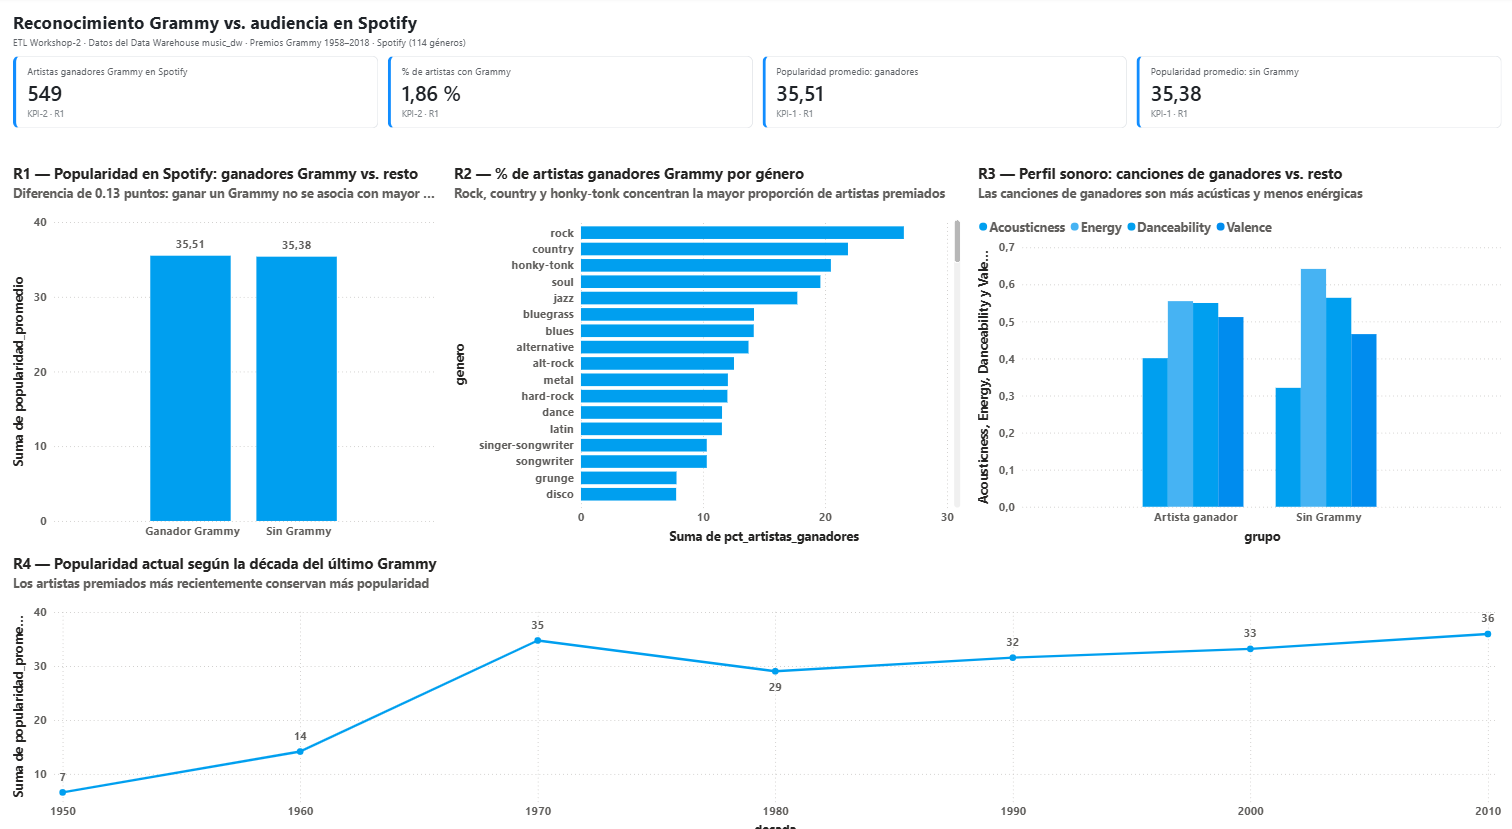

The page's visual inventory and layout, read from the dashboard file:
{"tool":"powerbi","page":{"name":"Página 1","canvas":[1920,1080],"ordinal":0},"visuals":[{"type":"clusteredColumnChart","title":"R1 — Popularidad en Spotify: ganadores Grammy vs. resto","fields":{"Category":["public kpi_r1_popularity_by_winner.grupo"],"Y":["Sum(public kpi_r1_popularity_by_winner.popularidad_promedio)"]},"box":[11.6,210.9,547.3,487.8],"z":0},{"type":"clusteredBarChart","title":"R2 — % de artistas ganadores Grammy por género","fields":{"Category":["public kpi_r2_genre_winners.genero"],"Y":["Sum(public kpi_r2_genre_winners.pct_artistas_ganadores)"]},"box":[570.6,210.9,652.1,487.8],"z":1},{"type":"clusteredColumnChart","title":"R3 — Perfil sonoro: canciones de ganadores vs. resto","fields":{"Category":["public kpi_r3_audio_profile.grupo"],"Y":["Sum(public kpi_r3_audio_profile.acousticness)","Sum(public kpi_r3_audio_profile.energy)","Sum(public kpi_r3_audio_profile.danceability)","Sum(public kpi_r3_audio_profile.valence)"]},"box":[1234.3,210.9,674.1,487.8],"z":2},{"type":"lineChart","title":"R4 — Popularidad actual según la década del último Grammy","fields":{"Category":["public kpi_r4_popularity_by_decade.decada"],"Y":["Sum(public kpi_r4_popularity_by_decade.popularidad_promedio)"]},"box":[11.7,705.2,1896.7,366.2],"z":3},{"type":"htmlContent443BE3AD55E043BF878BED274D3A6855","fields":{"content":["public kpi_r1_popularity_by_winner.KPI Encabezado HTML"]},"box":[11.6,11.6,1896.7,190.2],"z":4}]}

Visuals, with their boxes in screenshot pixels (x1, y1, x2, y2), scaled from the page's 1920x1080 canvas onto the 1512x829 screenshot:
"R1 — Popularidad en Spotify: ganadores Grammy vs. resto" clusteredColumnChart: 9, 162, 440, 536
"R2 — % de artistas ganadores Grammy por género" clusteredBarChart: 449, 162, 963, 536
"R3 — Perfil sonoro: canciones de ganadores vs. resto" clusteredColumnChart: 972, 162, 1503, 536
"R4 — Popularidad actual según la década del último Grammy" lineChart: 9, 541, 1503, 822
htmlContent443BE3AD55E043BF878BED274D3A6855 - public kpi_r1_popularity_by_winner.KPI Encabezado HTML: 9, 9, 1503, 155
